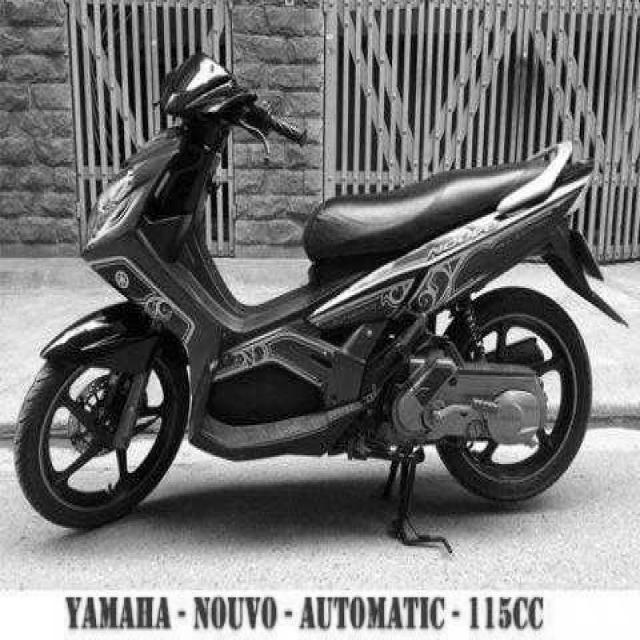Motorcycle: (17, 53, 620, 526)
